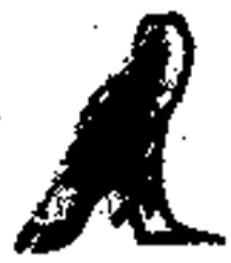Owl: (9, 10, 224, 258)
